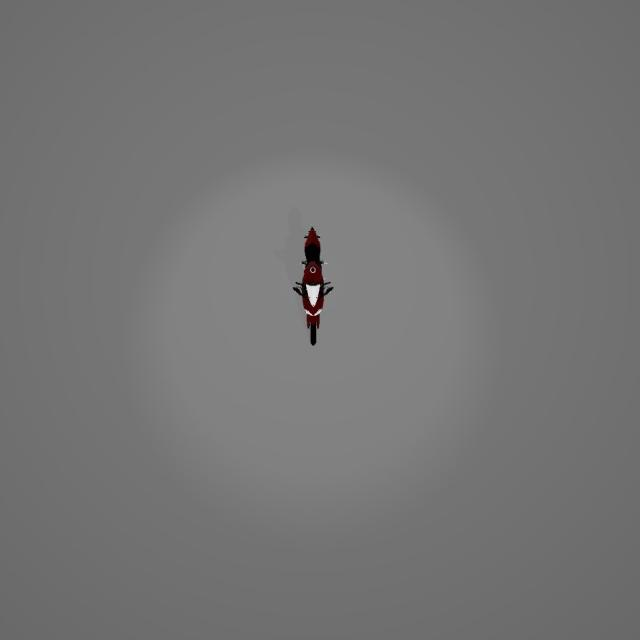Motobike: (284, 224, 342, 357)
